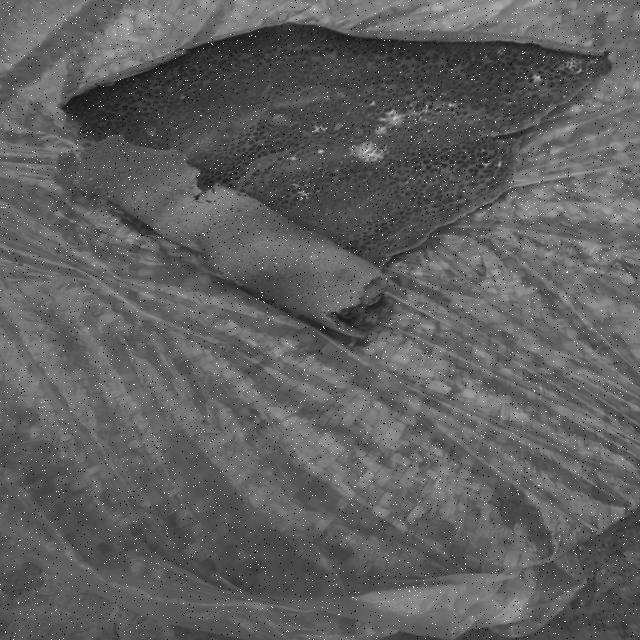injera_mold: (350, 140, 390, 163), (375, 110, 405, 132), (291, 177, 310, 202), (564, 55, 584, 77), (408, 107, 434, 122), (311, 124, 329, 135), (144, 126, 161, 136), (532, 72, 544, 86), (479, 158, 491, 170), (184, 240, 198, 250), (495, 45, 507, 56), (333, 90, 346, 99), (70, 176, 80, 186), (588, 56, 598, 66), (308, 252, 318, 261), (444, 102, 456, 109), (316, 148, 327, 155), (427, 124, 434, 135), (368, 100, 377, 108), (496, 159, 503, 168), (435, 104, 442, 113), (288, 156, 298, 162), (479, 146, 486, 154), (314, 187, 321, 194), (280, 192, 286, 200), (505, 101, 514, 106), (93, 184, 104, 188), (532, 102, 538, 109), (585, 70, 595, 74), (562, 94, 568, 100), (450, 110, 459, 114), (367, 196, 373, 202), (438, 92, 448, 95), (342, 154, 348, 159), (181, 94, 186, 100), (481, 124, 486, 130), (407, 102, 417, 105), (555, 72, 562, 76), (256, 162, 263, 166), (326, 172, 331, 177), (485, 54, 489, 60), (87, 177, 94, 180), (316, 166, 321, 170), (340, 160, 344, 165), (75, 170, 80, 174), (367, 113, 371, 118), (326, 96, 330, 101), (130, 150, 136, 153), (150, 208, 154, 212), (406, 180, 410, 184), (389, 245, 393, 249), (151, 185, 155, 189), (134, 200, 138, 204), (294, 128, 298, 132), (343, 239, 348, 242), (322, 172, 325, 177), (107, 195, 112, 198), (110, 190, 115, 193), (335, 133, 340, 136), (344, 74, 349, 77), (333, 169, 336, 173), (362, 179, 366, 182), (273, 171, 276, 175), (82, 170, 86, 173), (350, 186, 353, 189), (325, 165, 328, 168), (169, 186, 172, 189), (324, 213, 328, 215)
